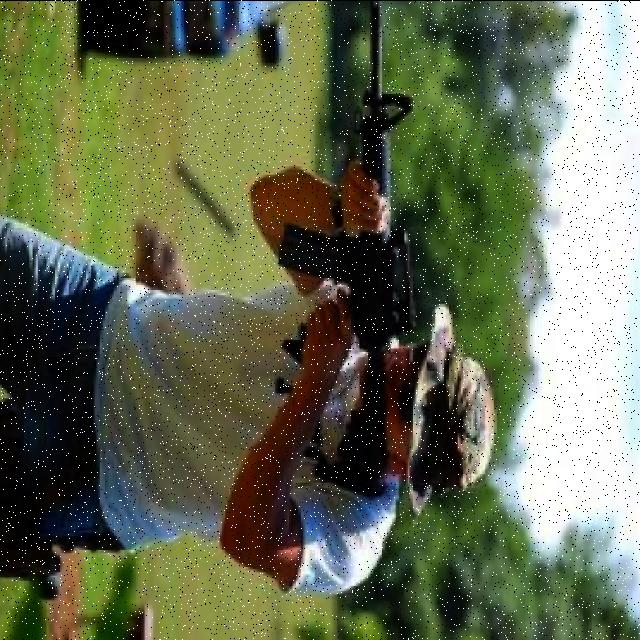Rifle: (273, 0, 415, 500)
